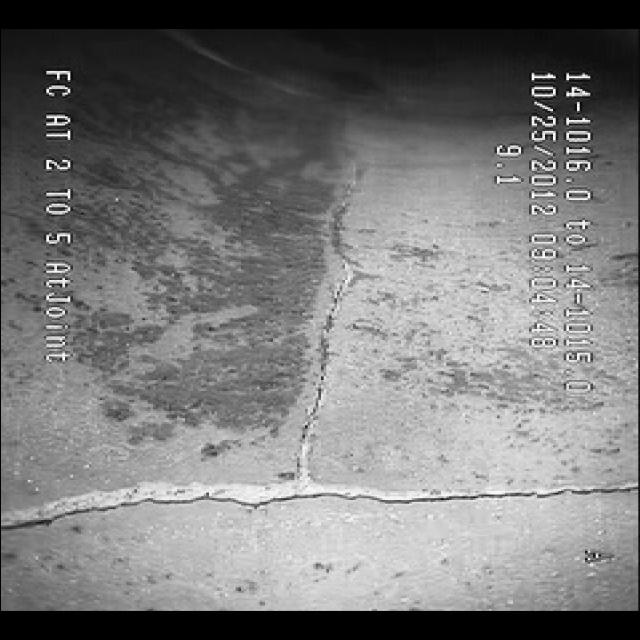Crack: (86, 433, 596, 546), (270, 173, 400, 405)
